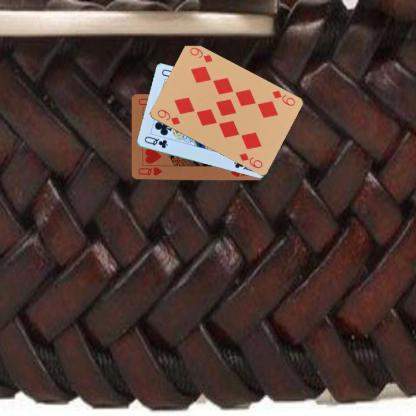9d: (154, 106, 182, 127), (270, 88, 297, 108)
Qc: (142, 134, 168, 150)
Qh: (135, 164, 163, 176)
